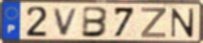2: (25, 5, 49, 38)
7: (113, 6, 137, 38)
B: (80, 6, 110, 39)
N: (169, 7, 196, 39)
V: (52, 7, 81, 37)
Z: (139, 7, 168, 39)
